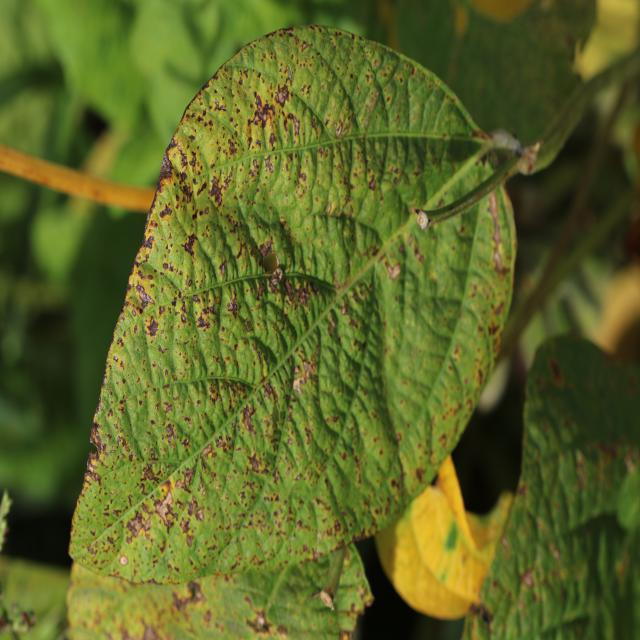Bacterial_Blight: (219, 420, 242, 479), (281, 274, 315, 310), (290, 355, 316, 398), (190, 300, 220, 332), (88, 426, 112, 462), (160, 250, 188, 280), (379, 250, 401, 280), (407, 232, 426, 265), (208, 174, 226, 206), (185, 493, 205, 521), (158, 149, 174, 183), (135, 283, 155, 310), (126, 511, 145, 539), (285, 111, 302, 141), (140, 461, 162, 483), (257, 239, 275, 265), (241, 405, 256, 434), (274, 83, 290, 108), (179, 465, 196, 488), (179, 179, 194, 204), (492, 247, 506, 273), (247, 452, 263, 474), (262, 381, 277, 404), (144, 316, 159, 338), (164, 423, 178, 442), (487, 320, 501, 339), (263, 153, 275, 174), (212, 99, 228, 113), (140, 235, 153, 252), (159, 202, 172, 219), (248, 160, 259, 179), (201, 443, 213, 459), (415, 467, 427, 483), (196, 179, 207, 196), (228, 140, 238, 157), (268, 132, 277, 150), (162, 400, 173, 414), (219, 259, 227, 277), (244, 318, 253, 333), (368, 176, 376, 191), (335, 122, 343, 136), (158, 344, 167, 355), (116, 336, 124, 347), (180, 311, 187, 323)
Soybean: (69, 26, 562, 638)
